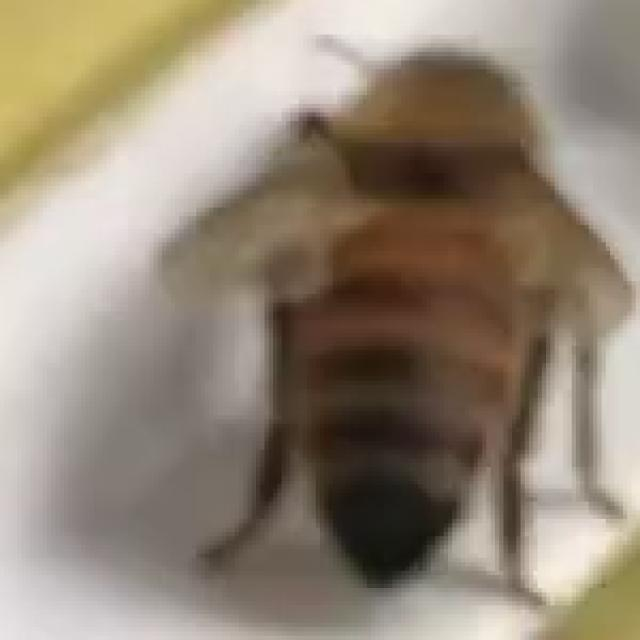honeybee: (196, 17, 640, 640)
